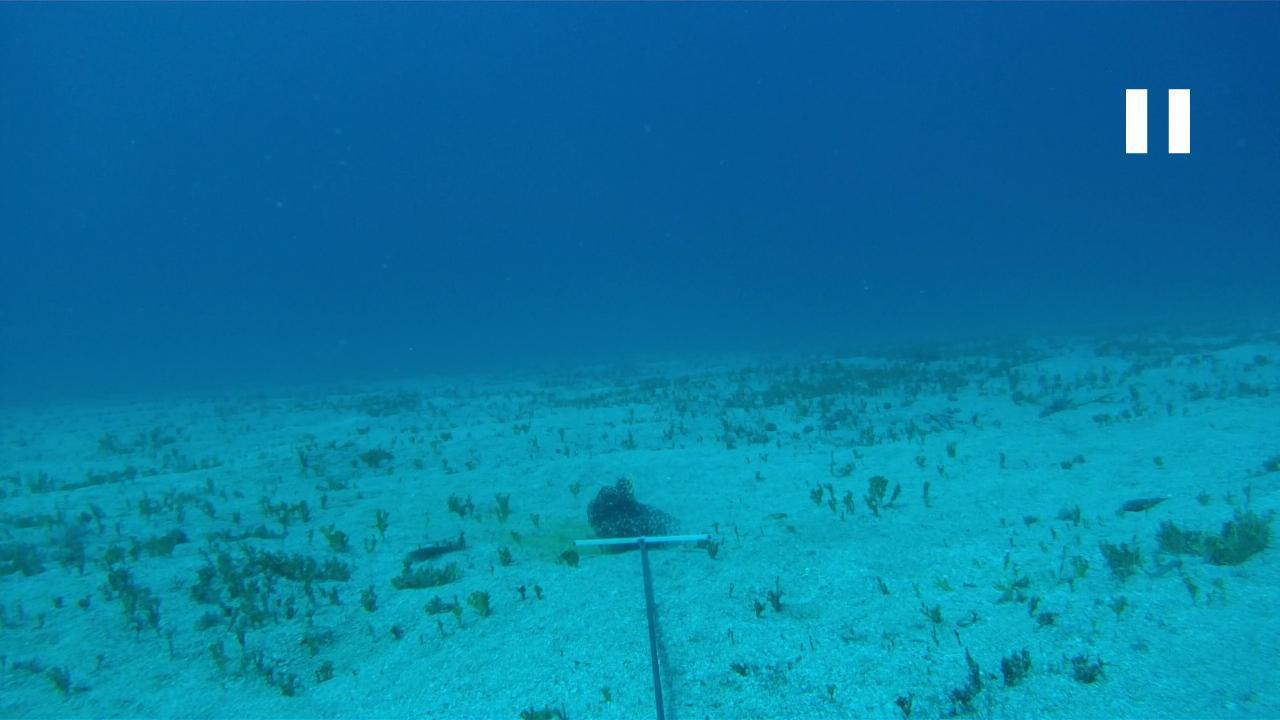bothus: (401, 530, 465, 556)
